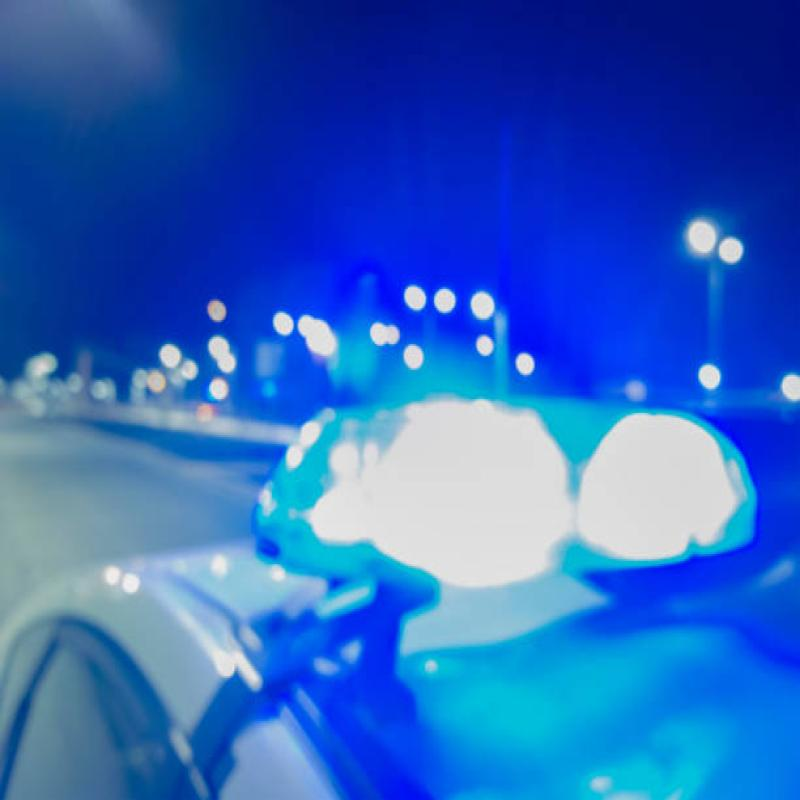AmbulanceSiren: (258, 358, 800, 637)
